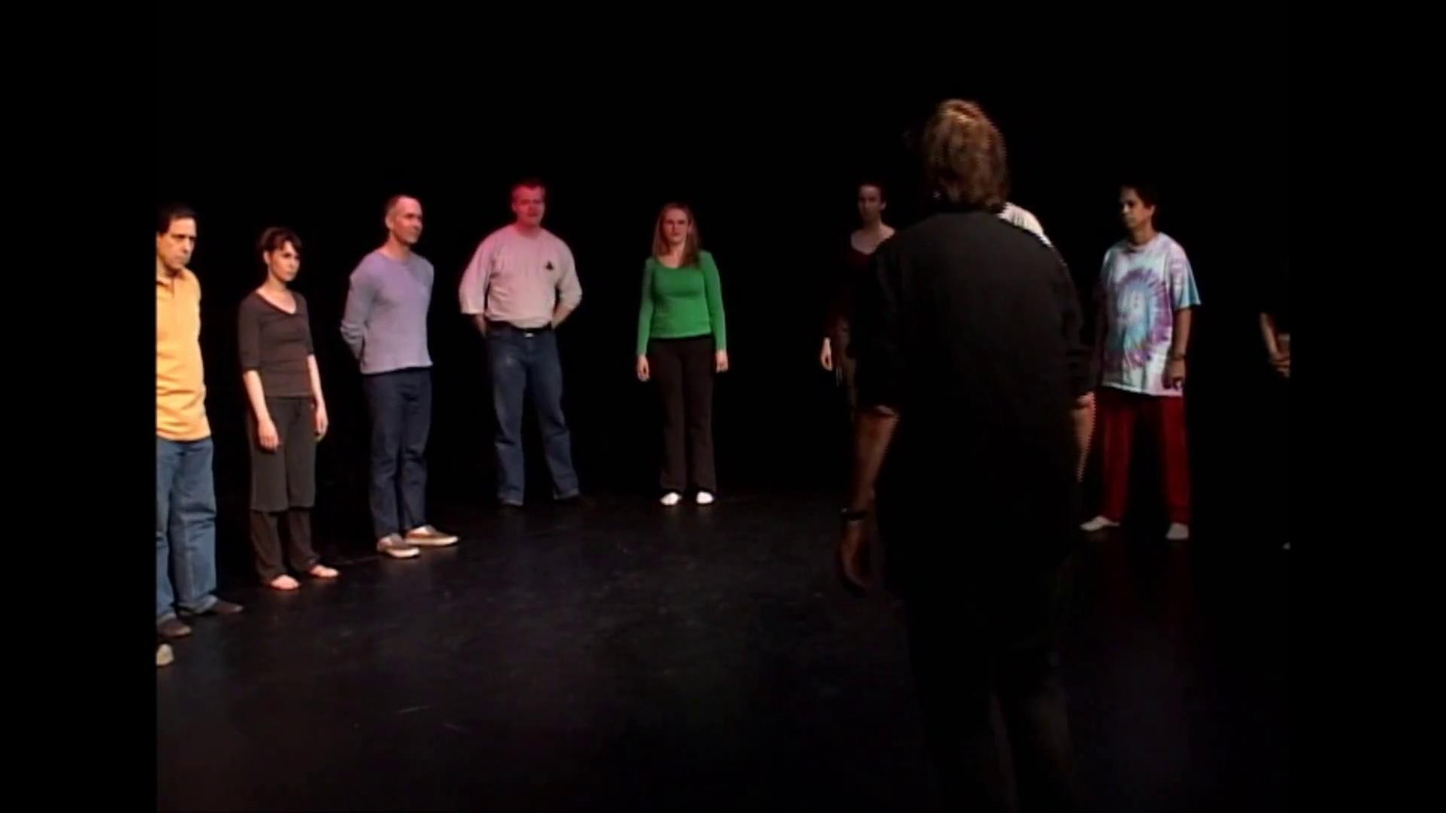victim: (829, 88, 1095, 809), (134, 205, 254, 643), (817, 185, 959, 549), (1087, 180, 1223, 557), (455, 179, 591, 518), (344, 185, 463, 565), (238, 214, 355, 596), (616, 201, 739, 521)
